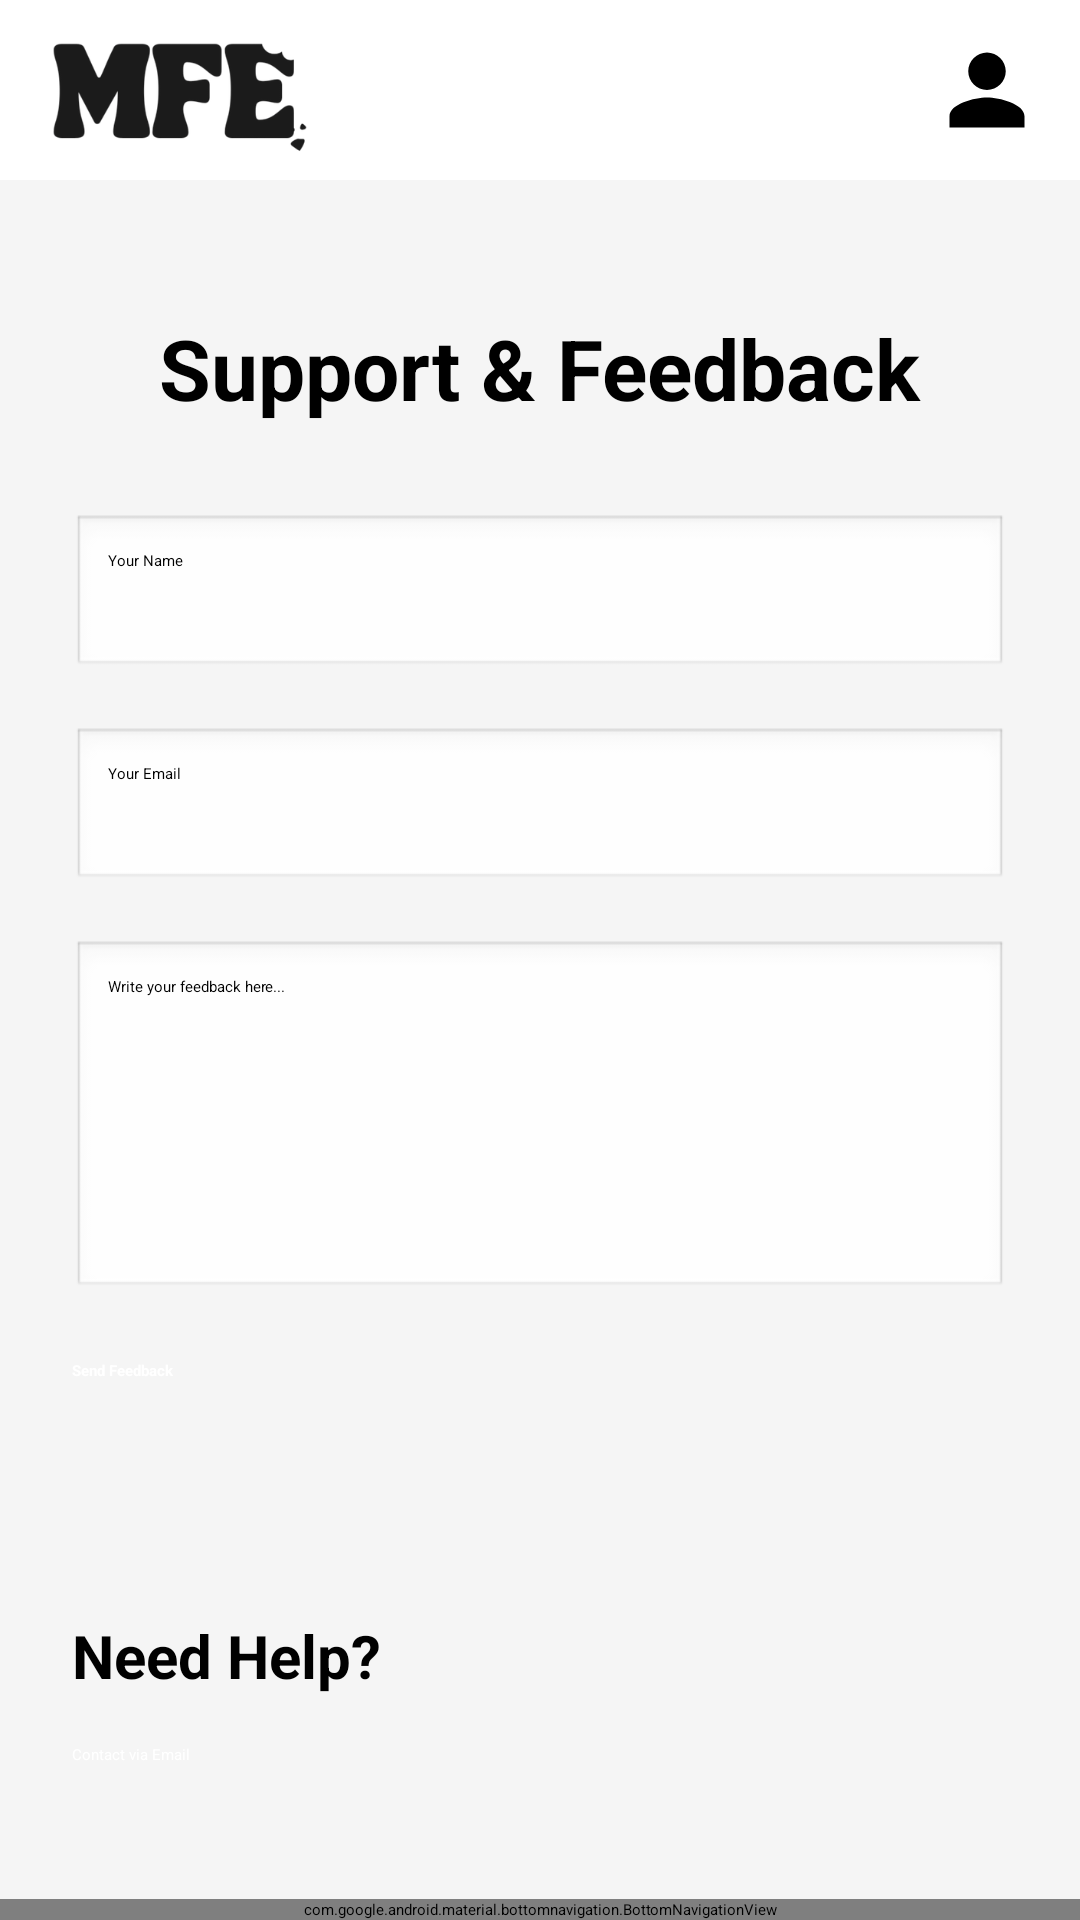

Screen size 1080 x 1920. Icon name, then its box in pixels as {"left": x1, "top": y1, "right": x2, "bottom": y2}:
profile: {"left": 949, "top": 52, "right": 1025, "bottom": 128}
